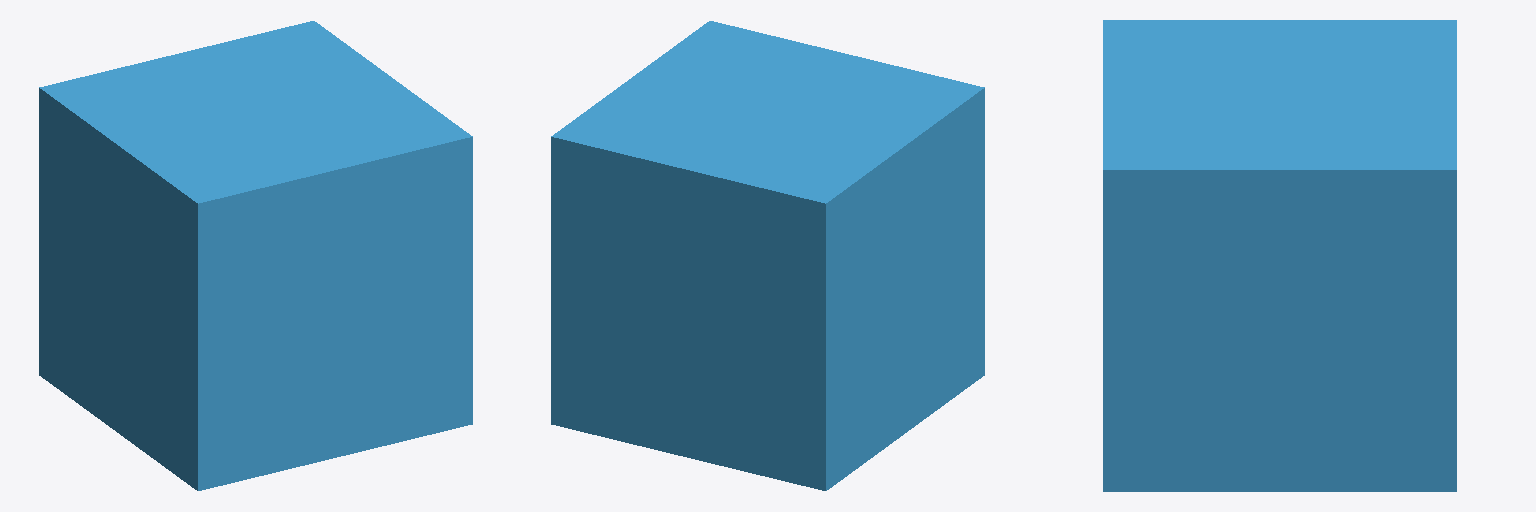
robot.urdf — tag25_09_00001:
<robot name="tag25_09_00001">
    <link name="base_link"/>
    <joint name="base_world" type="fixed">
        <parent link="base_link"/>
        <child link="simple_box_base_link"/>
        <origin xyz="0.0 0.0 0.0" rpy="0 0 0"/>
    </joint>
    <link name="simple_box_base_link">
        <inertial>
            <origin xyz="0 0 0" rpy="0 0 0"/>
            <mass value="1.0"/>
            <inertia ixx="0.0" ixy="0.0" ixz="0.0" iyy="0.0" iyz="0.0" izz="0.0"/>
        </inertial>
        <collision>
            <origin xyz="0 0 0" rpy="0 0 0"/>
            <geometry>
                <mesh filename="package://bir_open_manipulator_p_with_cam_moveit/apriltags/meshes/tag25_09_00001.dae"/>
            </geometry>
        </collision>
        <visual>
            <origin rpy="0.0 0 0" xyz="0 0 0"/>
            <geometry>
                <mesh filename="package://bir_open_manipulator_p_with_cam_moveit/apriltags/meshes/tag25_09_00001.dae"/>
            </geometry>
        </visual>
    </link>

    <gazebo reference="simple_box_base_link">
        <kp>100000.0</kp>
        <kd>100000.0</kd>
        <mu1>0.1</mu1>
        <mu2>0.1</mu2>
        <fdir1>1 0 0</fdir1>
    </gazebo>
</robot> 

--- Facts derived from the render (not from the file) ---
3 views of the same robot in one strip: view 1: azimuth 30°, elevation 25°; view 2: azimuth 150°, elevation 25°; view 3: azimuth 270°, elevation 25° (orthographic).
Robot: tag25_09_00001 — 2 links, 1 joints (1 fixed); root link base_link; default pose: every joint at zero.
Links seen in each view (by area): view 1: simple_box_base_link; view 2: simple_box_base_link; view 3: simple_box_base_link.
Boxes of the visible links, x1,y1,x2,y2 form: simple_box_base_link: (39,21,472,490); simple_box_base_link: (551,21,984,490); simple_box_base_link: (1103,20,1456,491).
Size in the robot's own frame: 0.3 by 0.3 by 0.3 metres.
1 mesh visuals loaded from 1 distinct referenced files (1 Collada DAE).